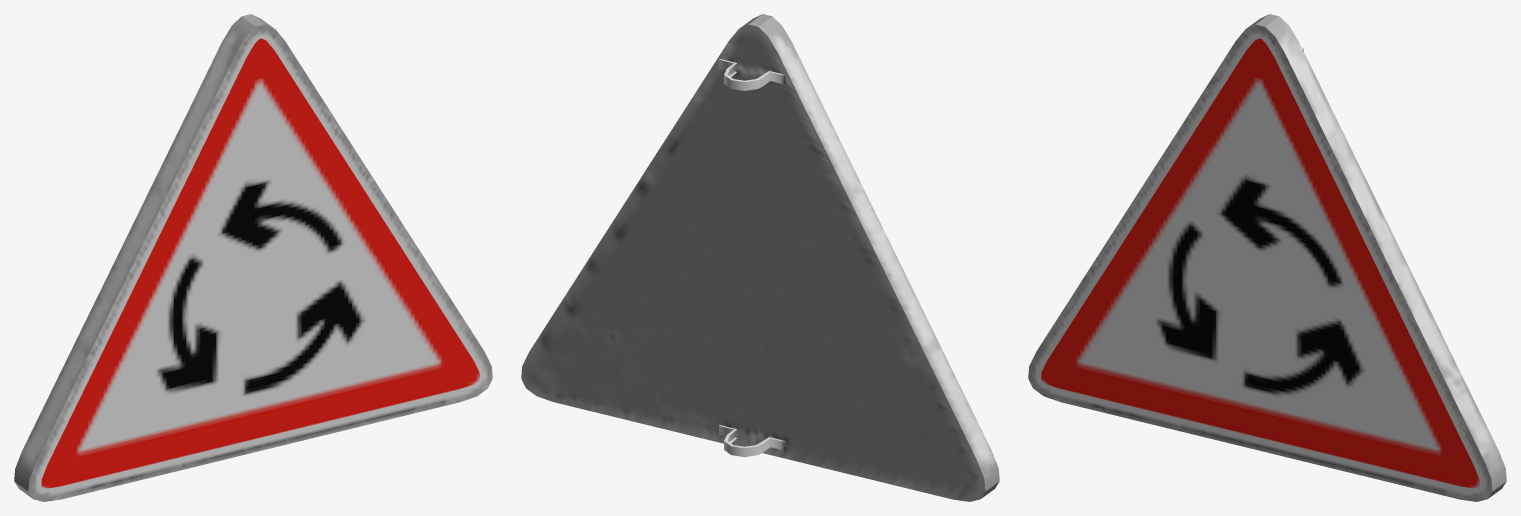
File: Mesh_PanelRoadSign_AB25_001_LOD0.FBX
3 views of the same model, side by side, from view 1: azimuth 30°, elevation 25°; view 2: azimuth 150°, elevation 25°; view 3: azimuth 330°, elevation 25° (orthographic).
Visible parts, largest first — view 1: PanneauxTriangle_Low; view 2: PanneauxTriangle_Low; view 3: PanneauxTriangle_Low.
Part boxes in pixels (x1,y1,x2,y2): PanneauxTriangle_Low: [14, 14, 492, 501]; PanneauxTriangle_Low: [521, 14, 999, 501]; PanneauxTriangle_Low: [1028, 14, 1506, 501].
Size of the model in its own units: 93.34 by 11.6 by 81.67.
